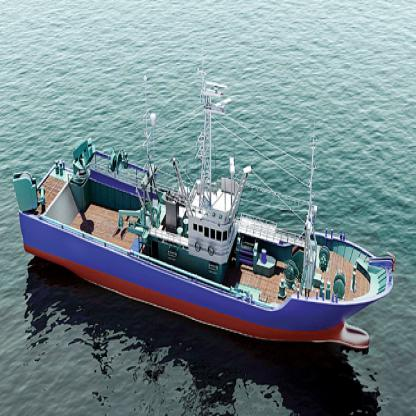fish-b: (8, 46, 398, 360)
